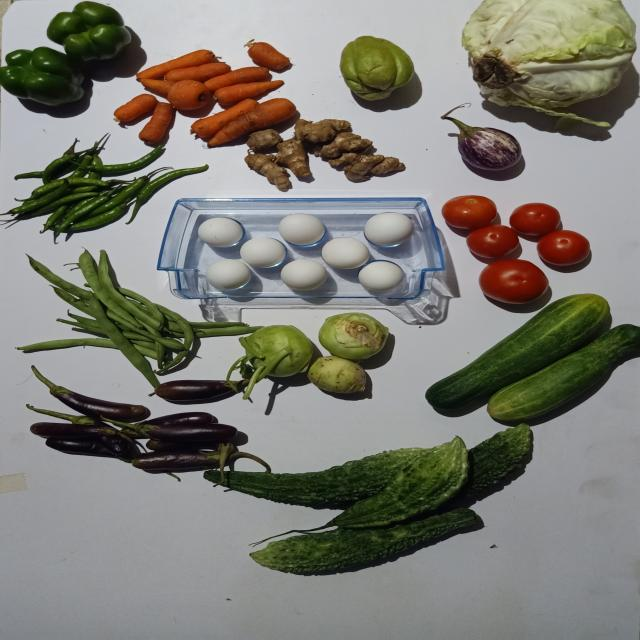Beans: (87, 296, 159, 388), (97, 250, 160, 330), (25, 255, 92, 301), (15, 338, 115, 351)
Bitter Gourd: (249, 509, 480, 575), (203, 449, 429, 507), (327, 437, 469, 529), (445, 424, 534, 508)
Brinjal: (30, 366, 148, 421), (149, 380, 248, 402), (28, 423, 120, 439)
Cabbage: (462, 0, 637, 126)
Capsicum: (0, 46, 82, 105)
Carrot: (207, 98, 296, 146), (135, 49, 215, 78), (213, 80, 283, 104), (203, 66, 268, 90), (137, 102, 172, 142), (112, 93, 158, 121), (247, 41, 290, 69)
Chayote: (340, 35, 414, 100)
Cucumber: (425, 294, 610, 410), (487, 324, 640, 421), (488, 324, 640, 421)
Egg: (364, 212, 413, 246), (321, 237, 370, 269), (278, 213, 324, 245), (280, 259, 326, 290), (239, 237, 286, 267), (358, 261, 404, 291), (197, 217, 242, 247), (205, 259, 250, 289)
Eggplant: (442, 112, 522, 170)
Ginger: (244, 153, 291, 191), (318, 132, 372, 158), (294, 118, 351, 142), (276, 137, 311, 176)
Green Chilly: (126, 164, 208, 224), (88, 176, 147, 215), (0, 182, 68, 214), (89, 145, 163, 172), (38, 138, 77, 183), (67, 203, 124, 231)
Tomato: (479, 259, 549, 304), (537, 230, 590, 266), (442, 195, 497, 229), (466, 225, 519, 258), (510, 203, 561, 235)
Turnip: (225, 325, 311, 400), (318, 313, 389, 362), (307, 356, 366, 394)
